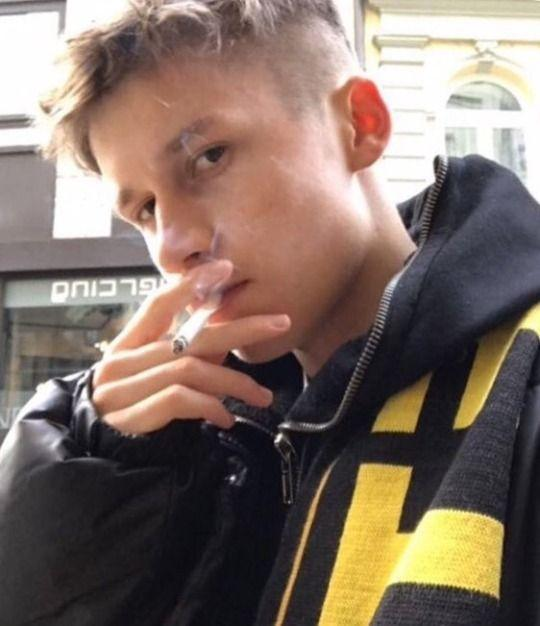cigarette: (170, 291, 226, 356)
